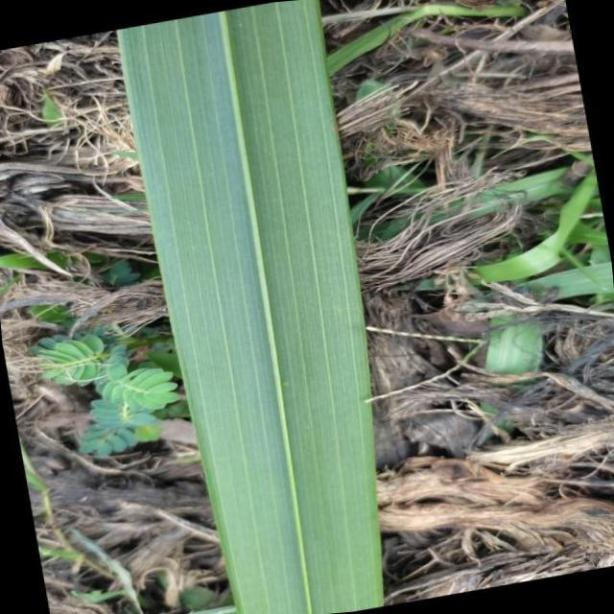Healthy: (118, 0, 386, 604)
